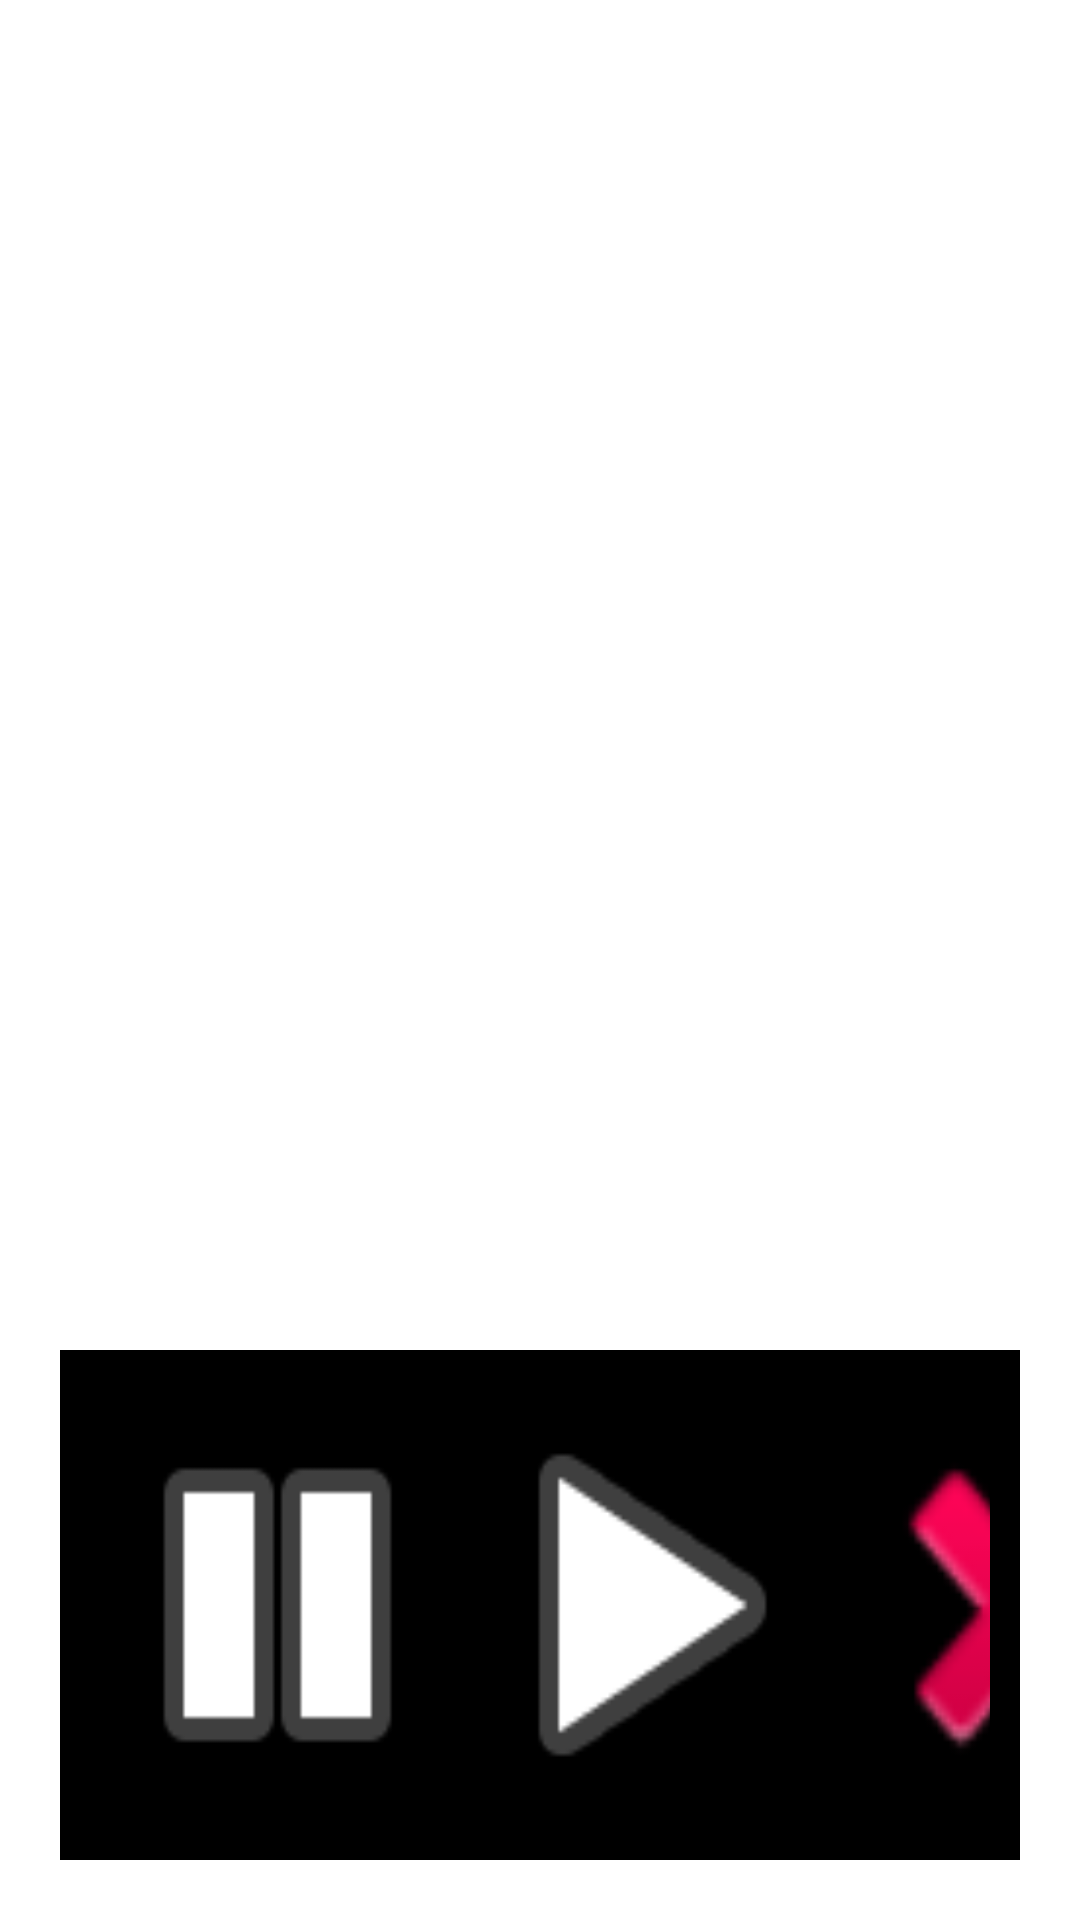

Screen size 1080×1920. Icon name, then its center in pixels as (x,y):
pause: (277,1605)
play: (652,1605)
